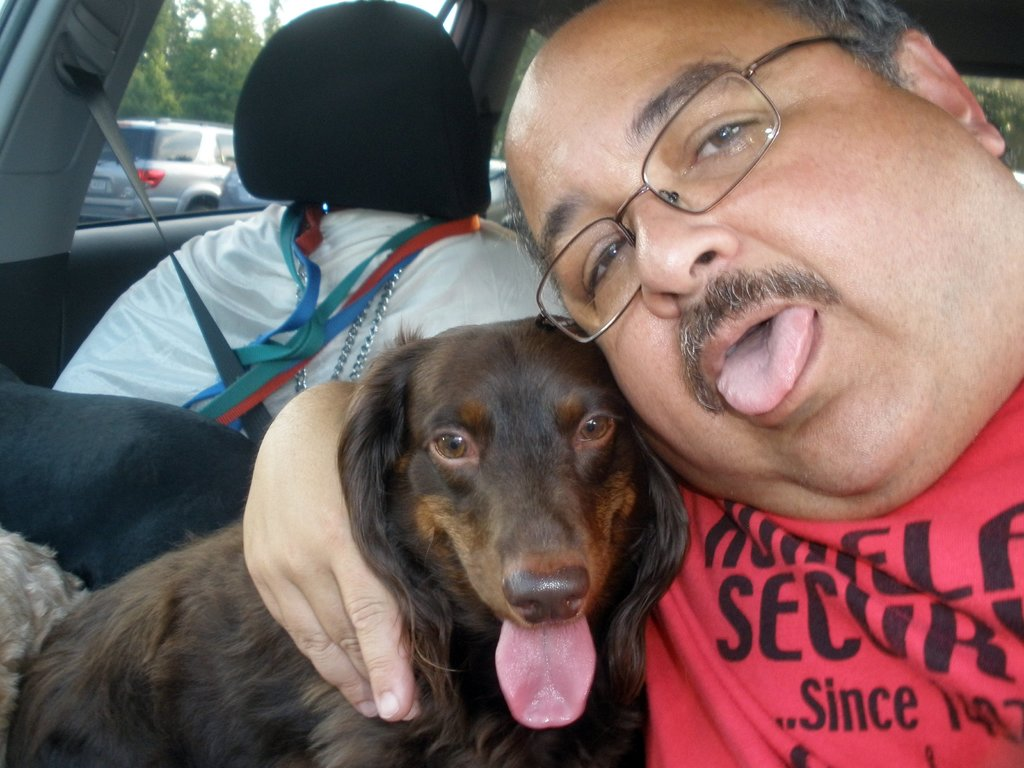Car: (0, 2, 1023, 383), (81, 115, 232, 216)
